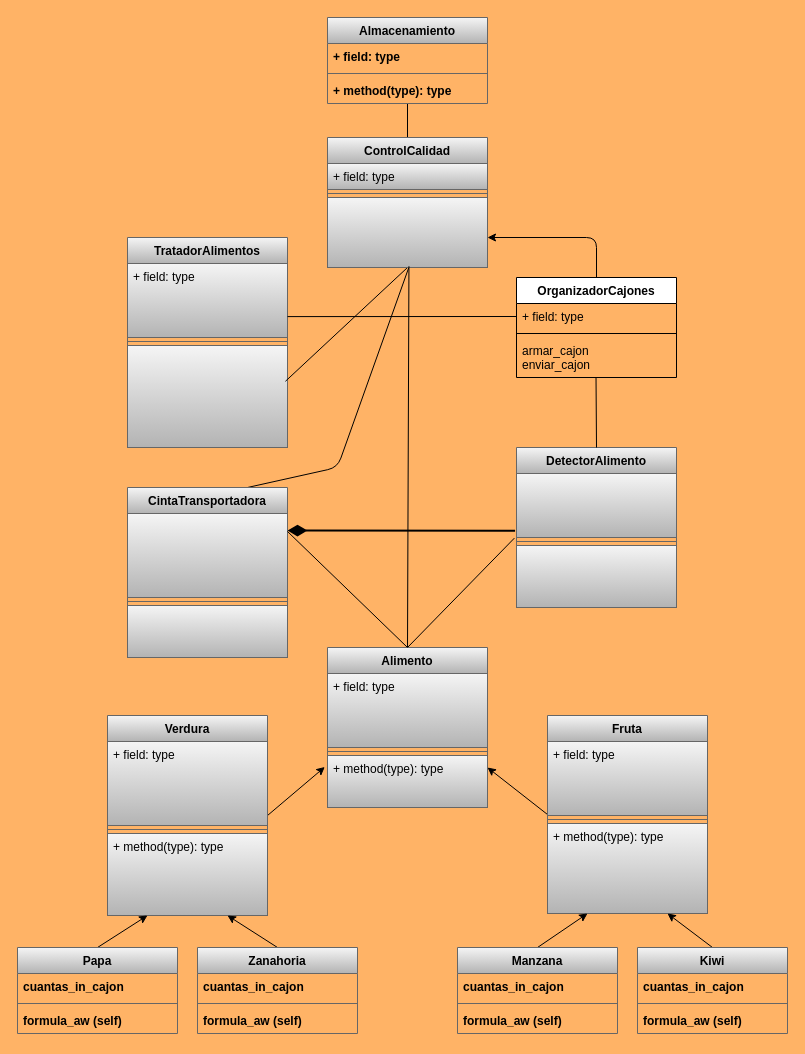
This 805x1054 diagram has some shape labels left out. The centre of each missing label's shape, as x and y in pixels:
"+ detectar_alimento" belongs at (x=596, y=576).
"- sensores = DetectorAlimento()" belongs at (x=207, y=555).
"alimentos_detectables" belongs at (x=596, y=505).
"calcular_aw_kiwi calcular_aw_manzana calcular_aw_zanahoria calcular_aw_papa" belongs at (x=407, y=232).
"Encender" belongs at (x=207, y=631).
"EnvasarAlVacio Etc" belongs at (x=207, y=396).
